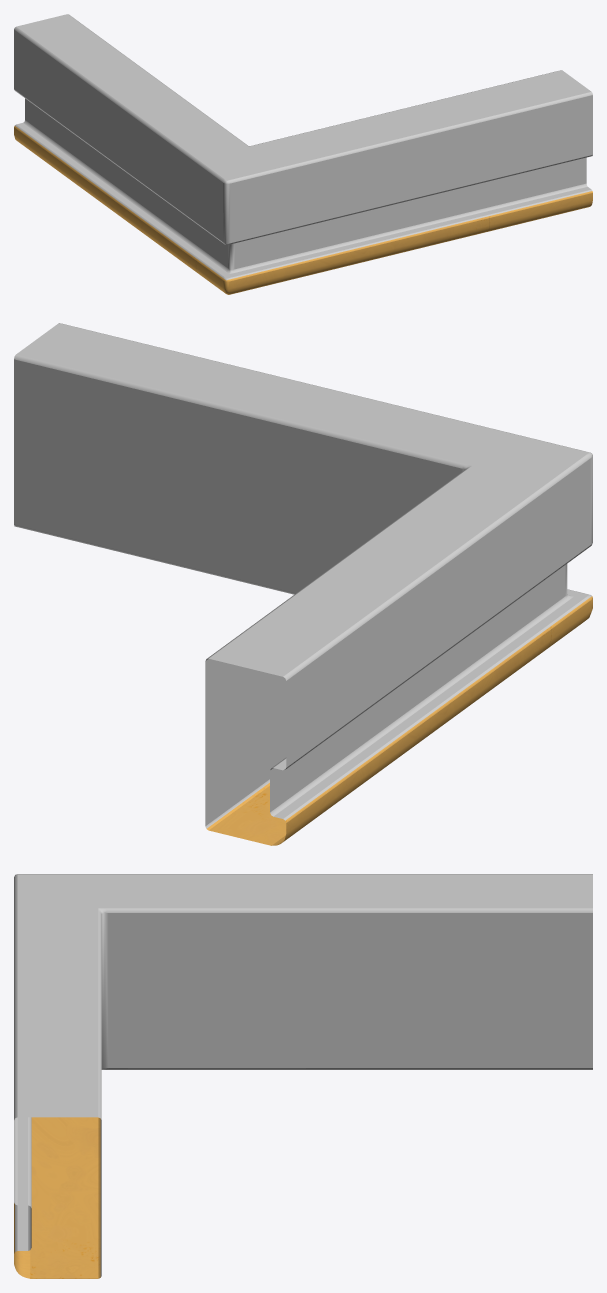
The model's file is SM_Beam_04_Corner_01.fbx.
3 renders of one model, top to bottom at view 1: azimuth 30°, elevation 25°; view 2: azimuth 150°, elevation 25°; view 3: azimuth 270°, elevation 25°, orthographic. The views are drawn at different scales.
Parts seen in each view (by area): view 1: SM_Beam_04_Corner_01_LOD0; view 2: SM_Beam_04_Corner_01_LOD0; view 3: SM_Beam_04_Corner_01_LOD0.
Part boxes in pixels (x1,y1,x2,y2): SM_Beam_04_Corner_01_LOD0: [14, 14, 592, 294]; SM_Beam_04_Corner_01_LOD0: [14, 323, 592, 845]; SM_Beam_04_Corner_01_LOD0: [14, 874, 592, 1278].
Bounding box in the file's own units: 330 × 330 × 102.
